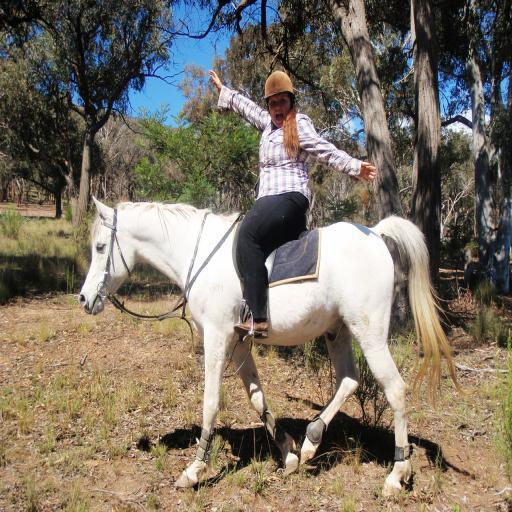horse: (77, 196, 483, 497)
